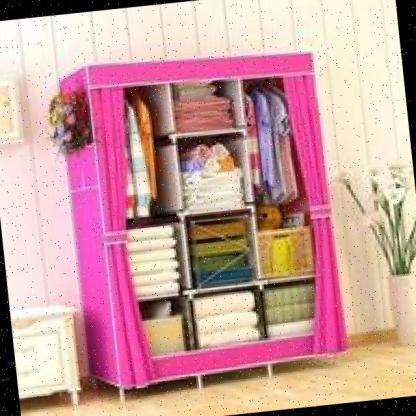Closet: (53, 47, 351, 407)
